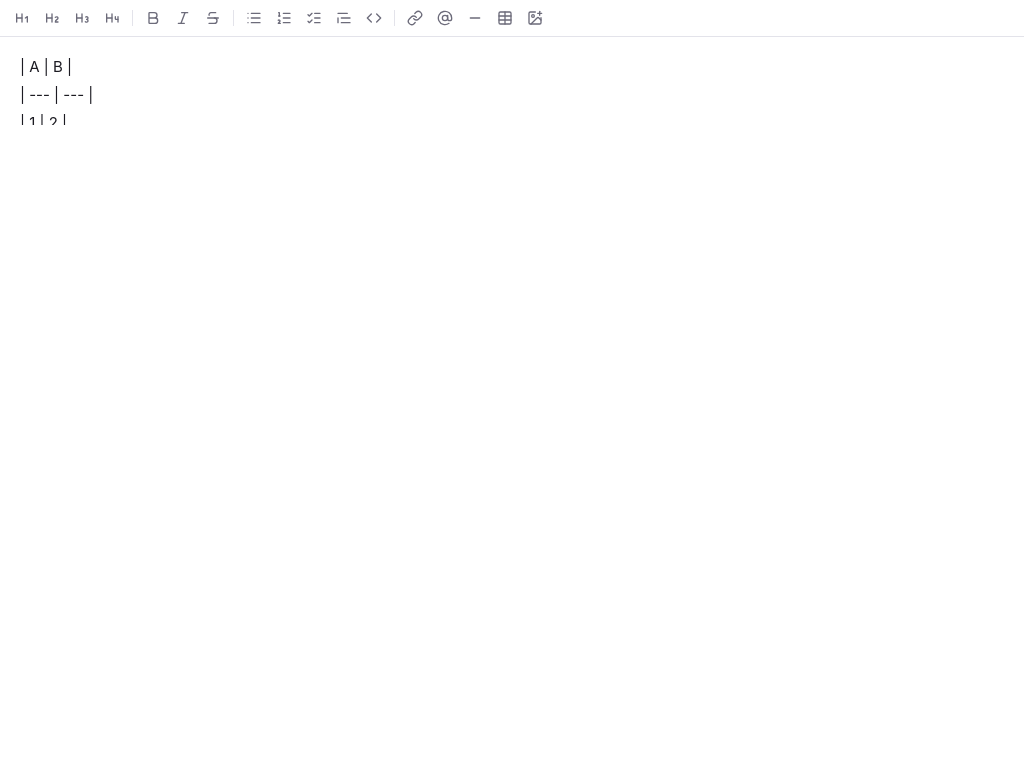
「キャンセル」 › changes nothing in a table that was there (Esc too)
Click the button named "表" at {"x": 505, "y": 18}, box [491, 4, 519, 32]
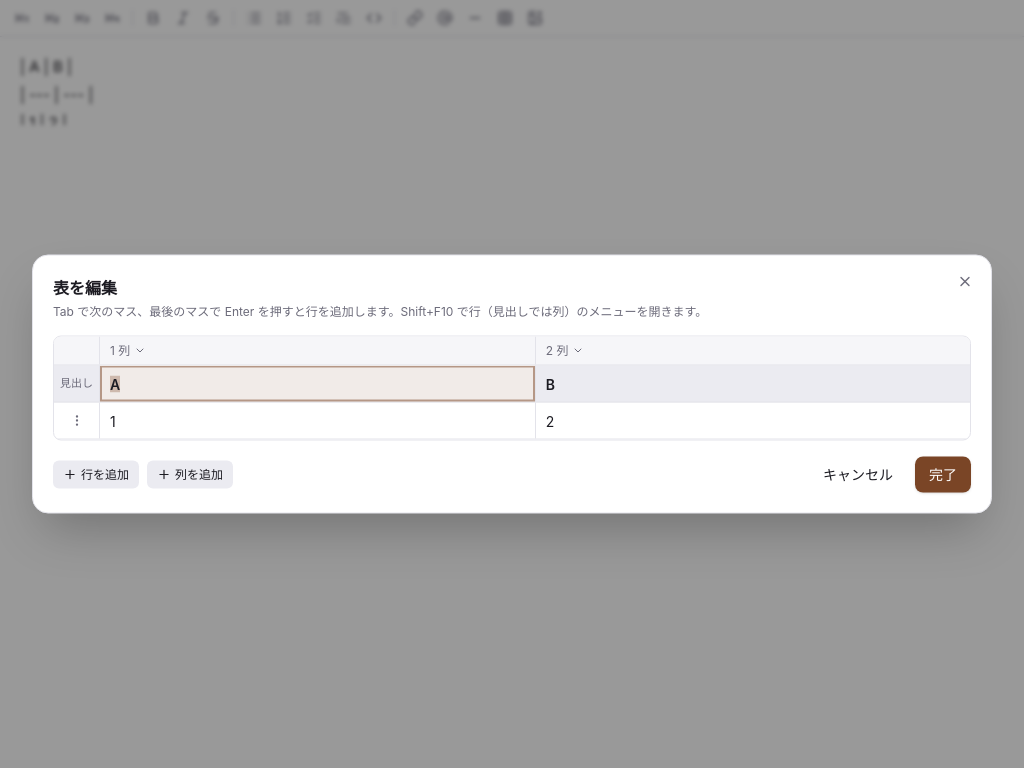
Replace the text in the field named "2 行目 1 列" with "変更" at {"x": 317, "y": 420}, box [100, 402, 535, 438]
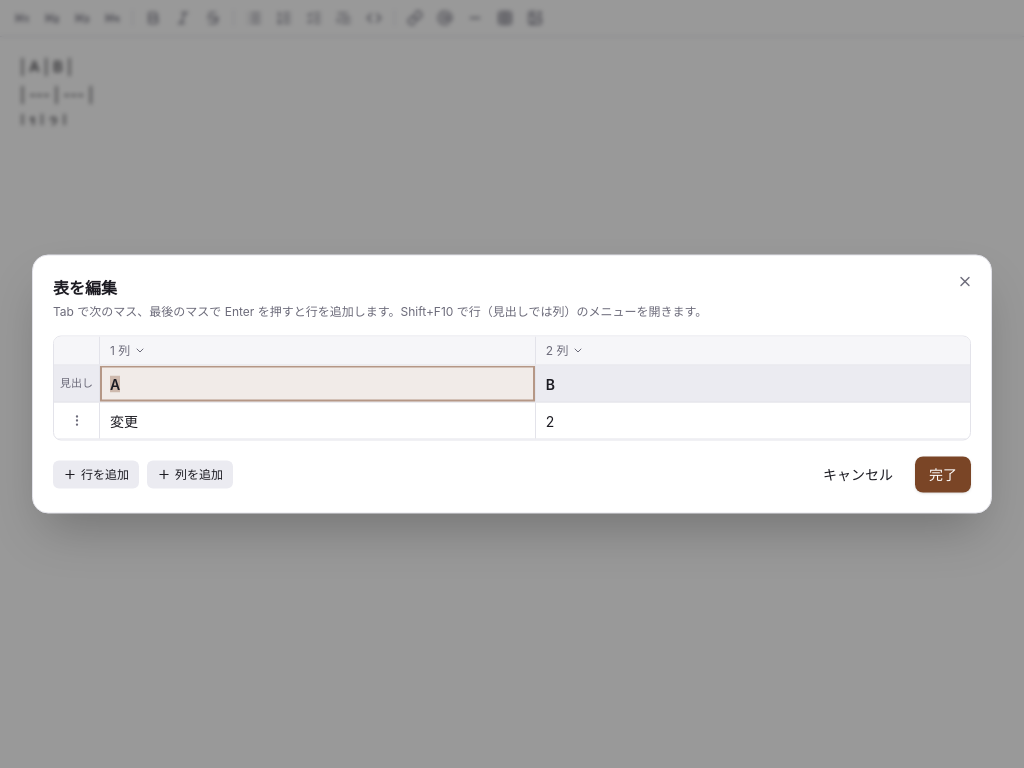
Click the button "キャンセル" at {"x": 858, "y": 474}, box [809, 456, 907, 492]
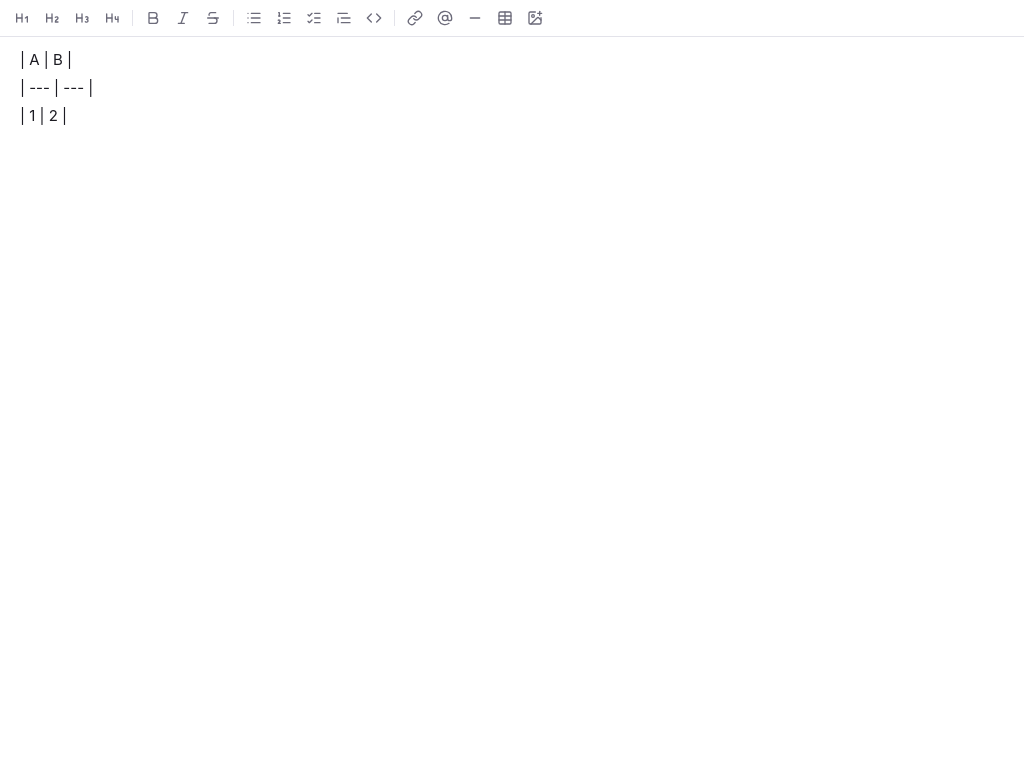
Click the button named "表" at {"x": 505, "y": 18}, box [491, 4, 519, 32]
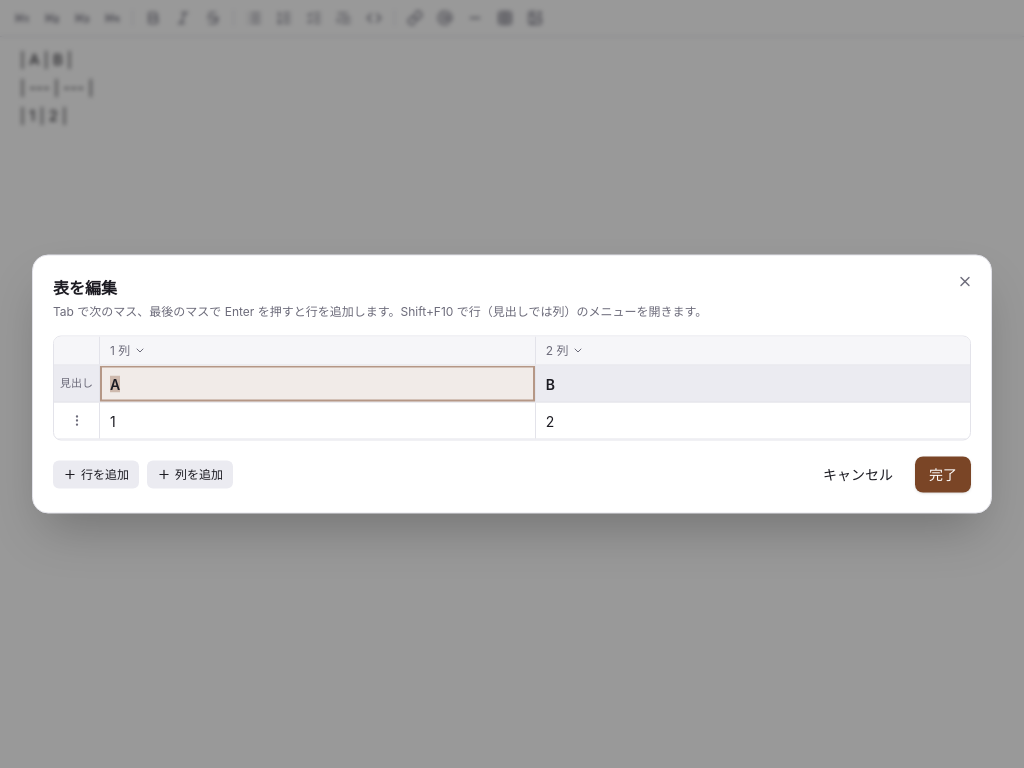
Replace the text in the field named "2 行目 1 列" with "変更" at {"x": 317, "y": 420}, box [100, 402, 535, 438]
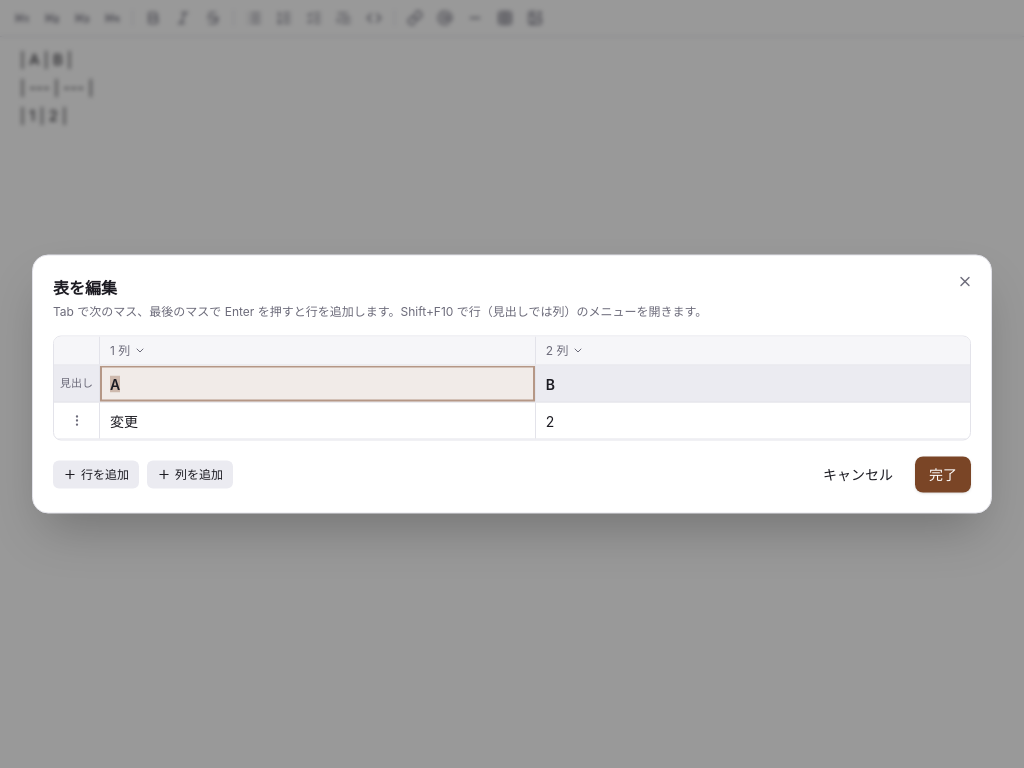
Press Escape in the field named "2 行目 1 列", box [100, 402, 535, 438]
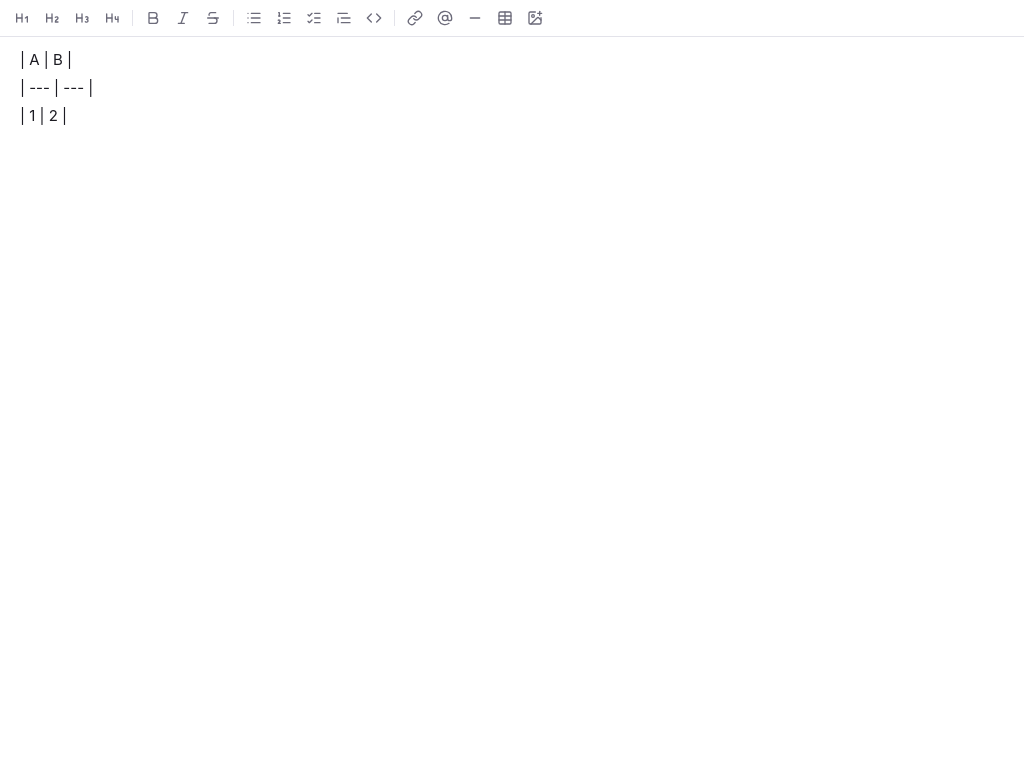
Expected: the dialog is gone
